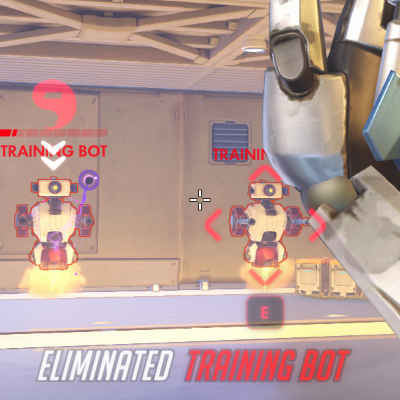hpbar: (1, 128, 108, 137)
